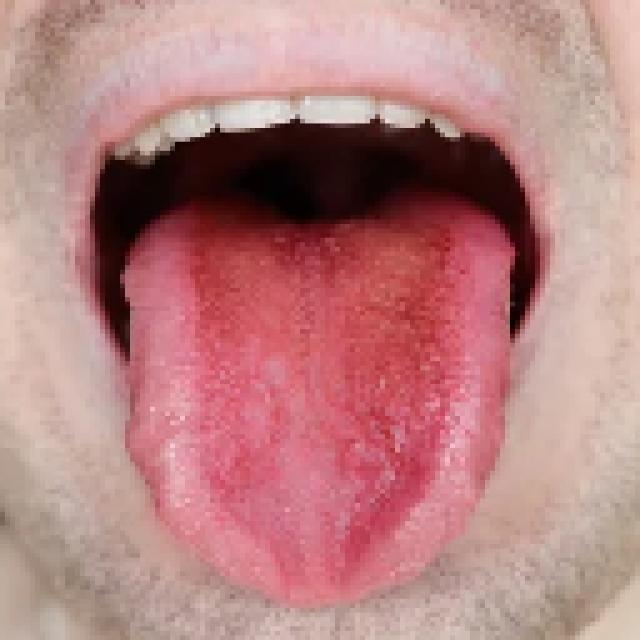No Cancer: (134, 151, 496, 348)
